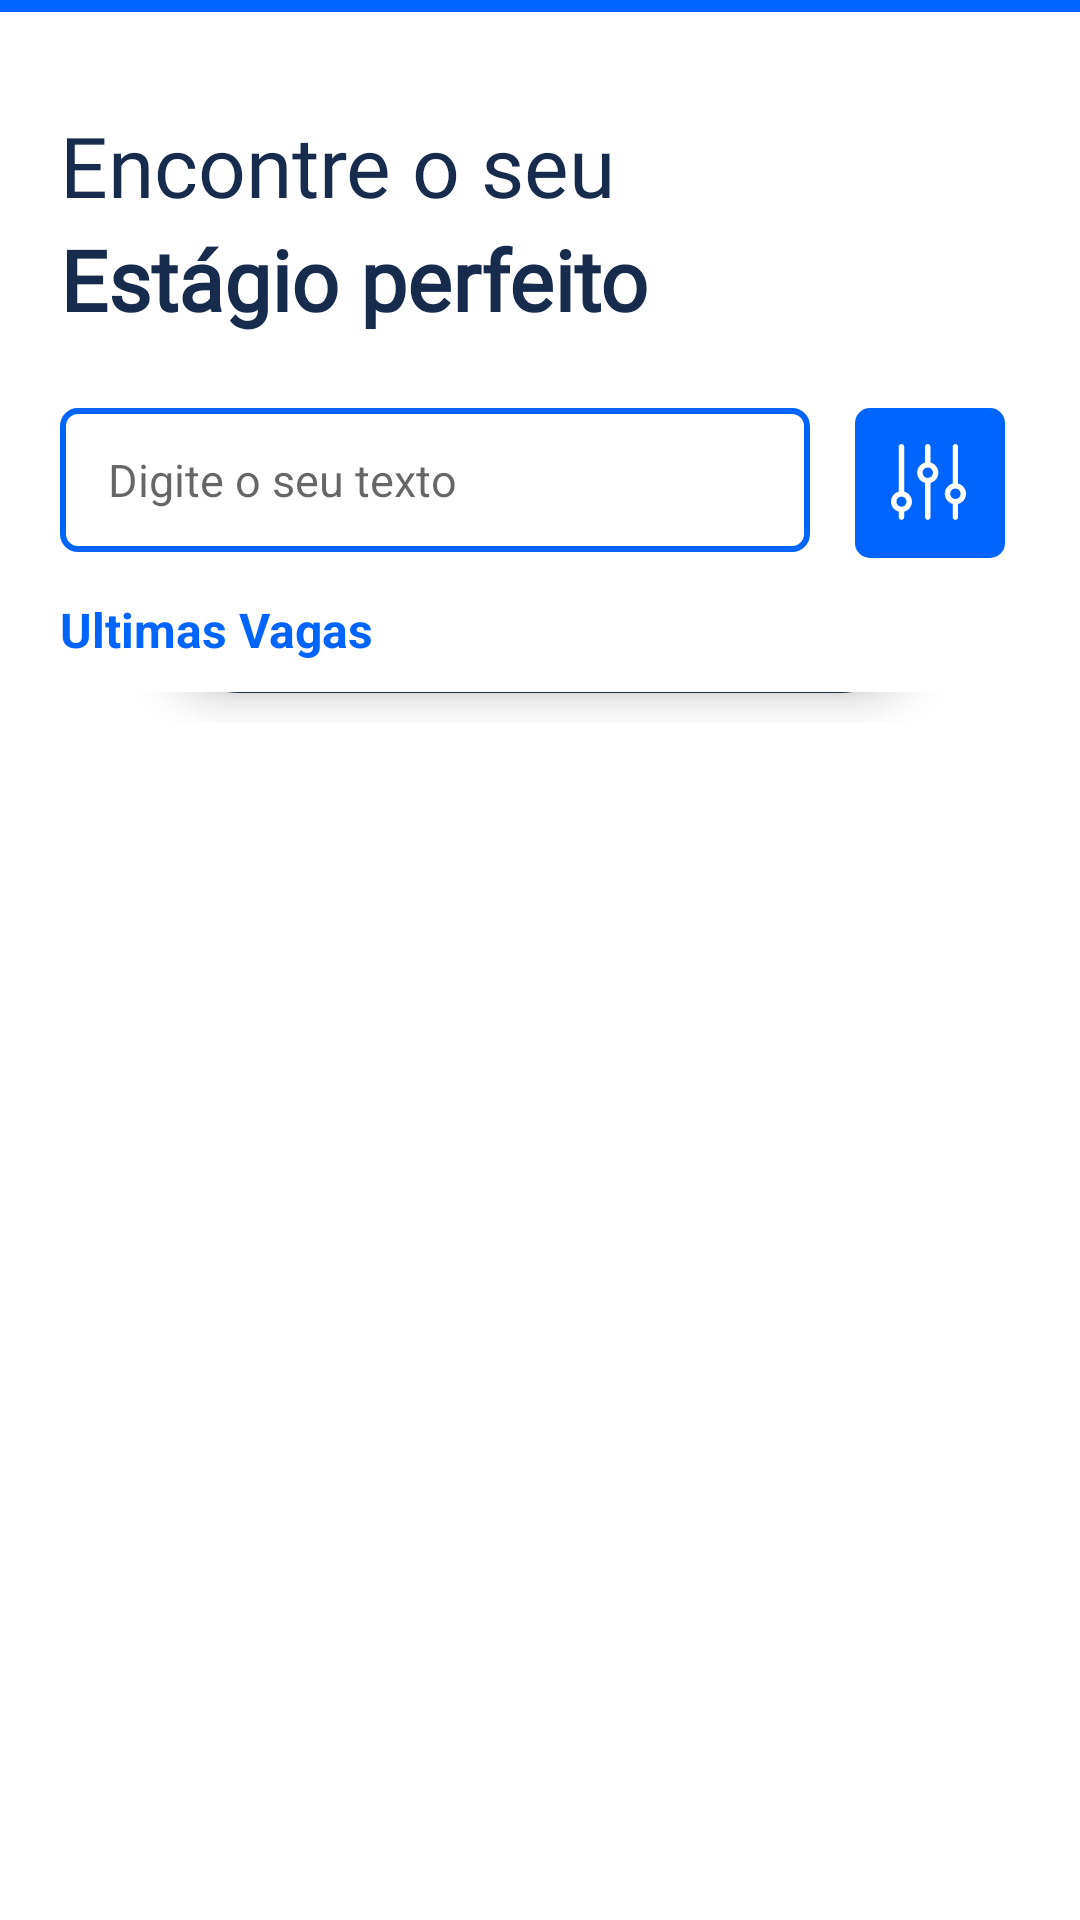

Named icons in this screenshot (1080*1920) and their bounding boxes, bbox=(x1, y1, x2, y2):
filtro: bbox=(855, 408, 1005, 558)
